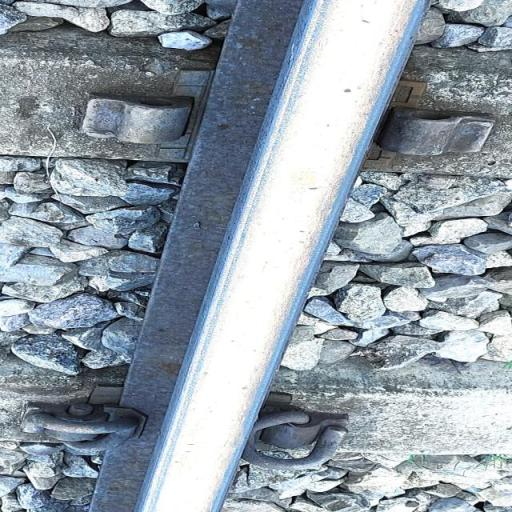erc_good: (23, 402, 145, 456), (242, 411, 348, 470)
erc_missing: (75, 70, 214, 148), (379, 108, 494, 175)
